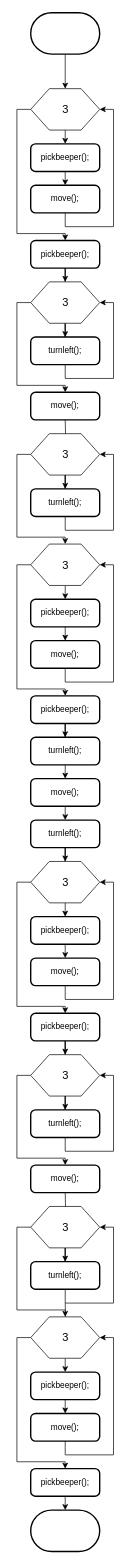
The diagram is 131 pixels wide and 1564 high, and some of its shapes have lost their labels. The centre of each missing label's shape, as x and y in pixels:
Fin: (x=65, y=1530)
Inicio: (x=65, y=33)
